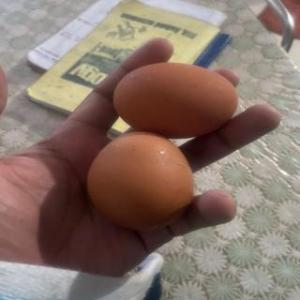egg: (87, 132, 197, 232), (114, 60, 242, 138)
